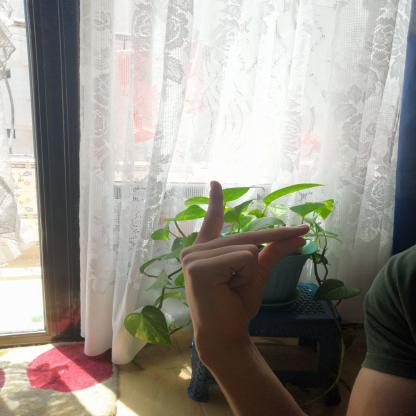TAA: (163, 173, 322, 346)
